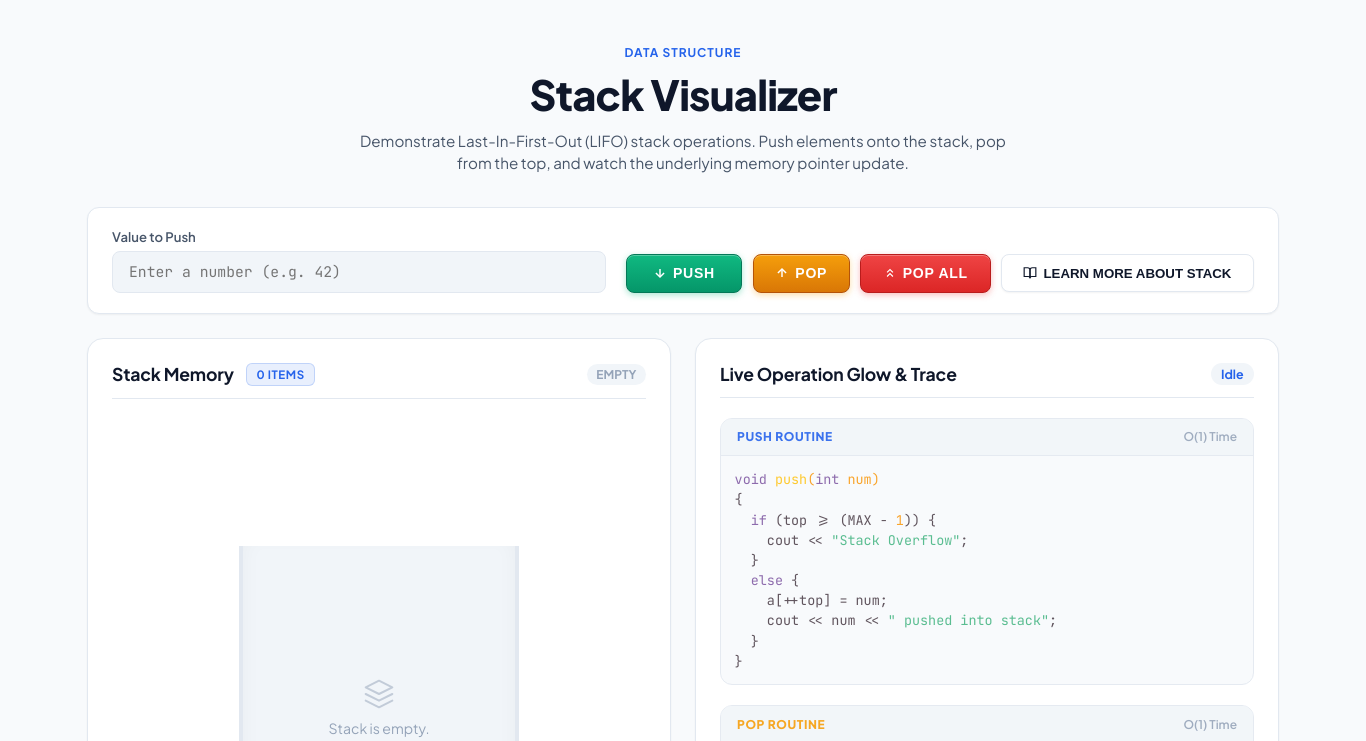
Scenario: should run stack component with box
The image size is (1366, 741).
Type "7" into the field with test id "stackInput" at (359, 272), box x1=112 y1=251 x2=606 y2=293
Click the button "PUSH" at (684, 273), box x1=626 y1=254 x2=742 y2=293
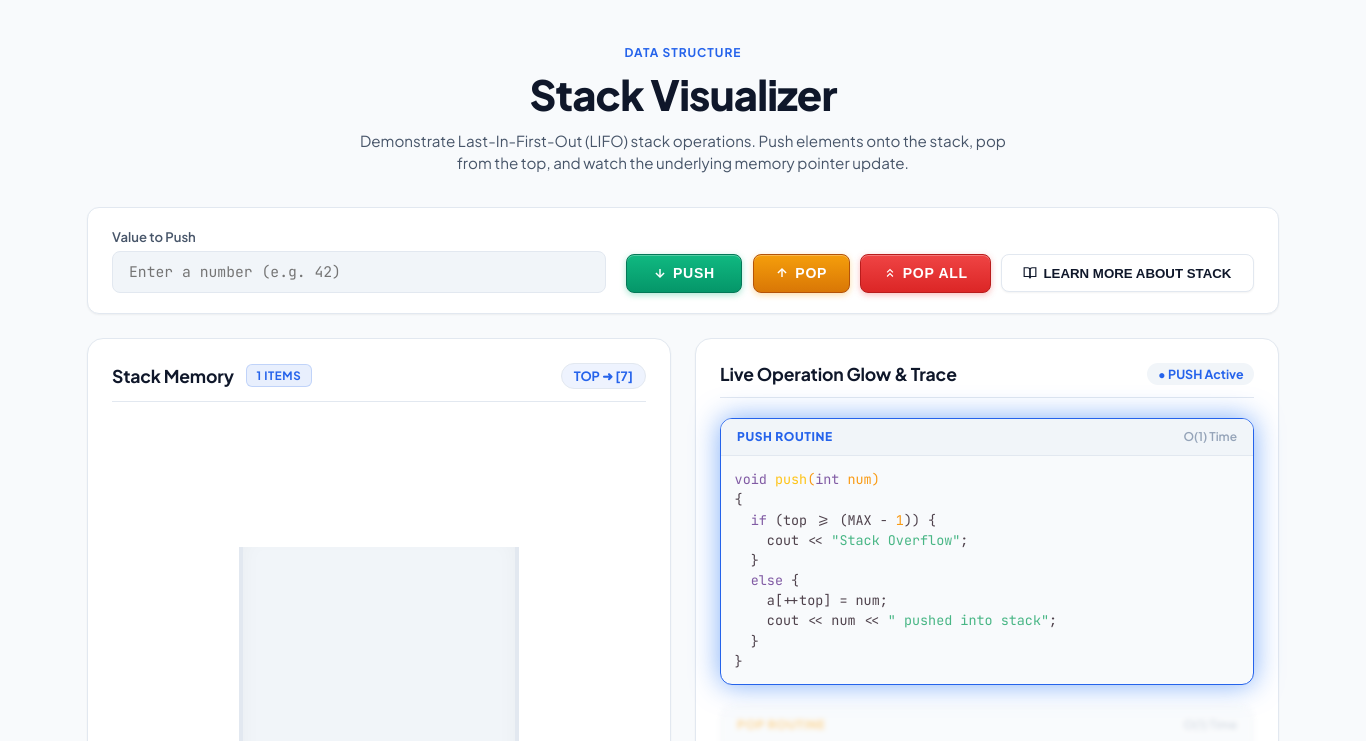
Type "10" into the field with test id "stackInput" at (359, 272), box x1=112 y1=251 x2=606 y2=293
Click the button "PUSH" at (684, 273), box x1=626 y1=254 x2=742 y2=293
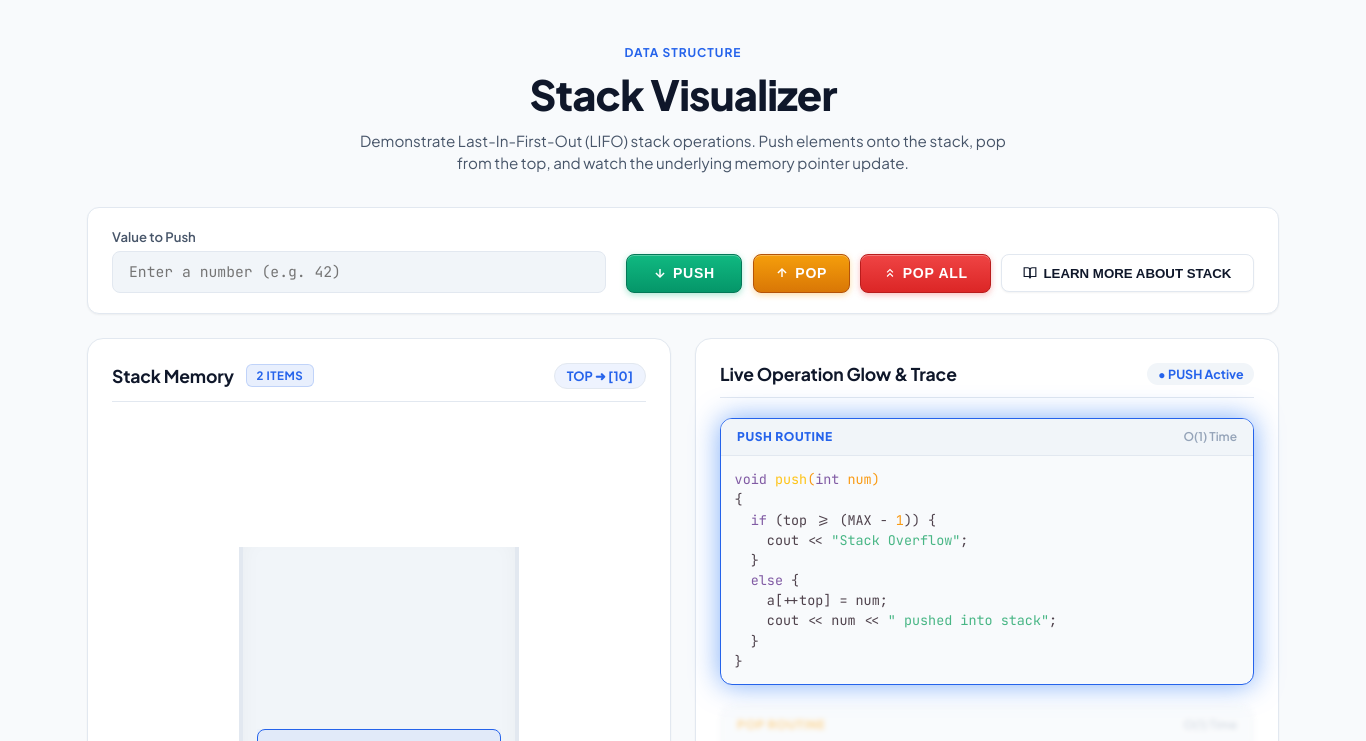
Type "18" into the field with test id "stackInput" at (359, 272), box x1=112 y1=251 x2=606 y2=293
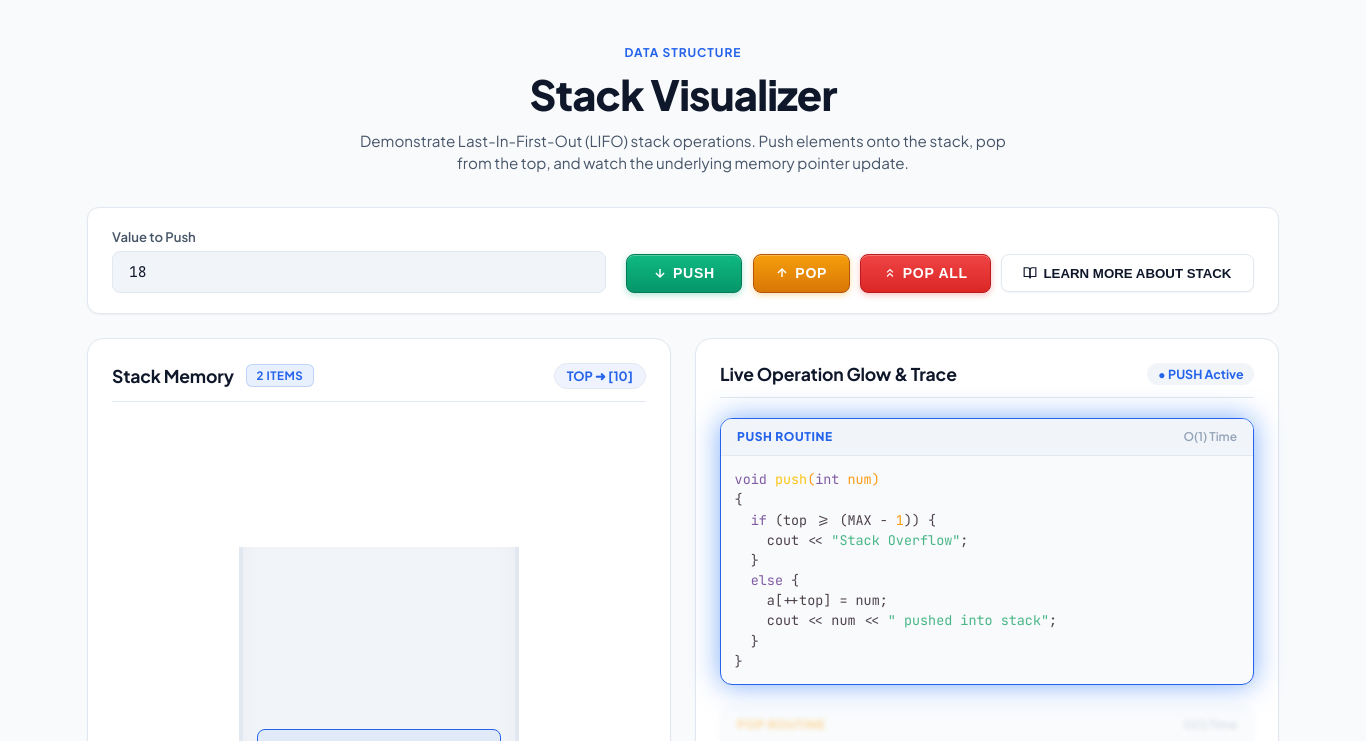
Click the button "PUSH" at (684, 273), box x1=626 y1=254 x2=742 y2=293
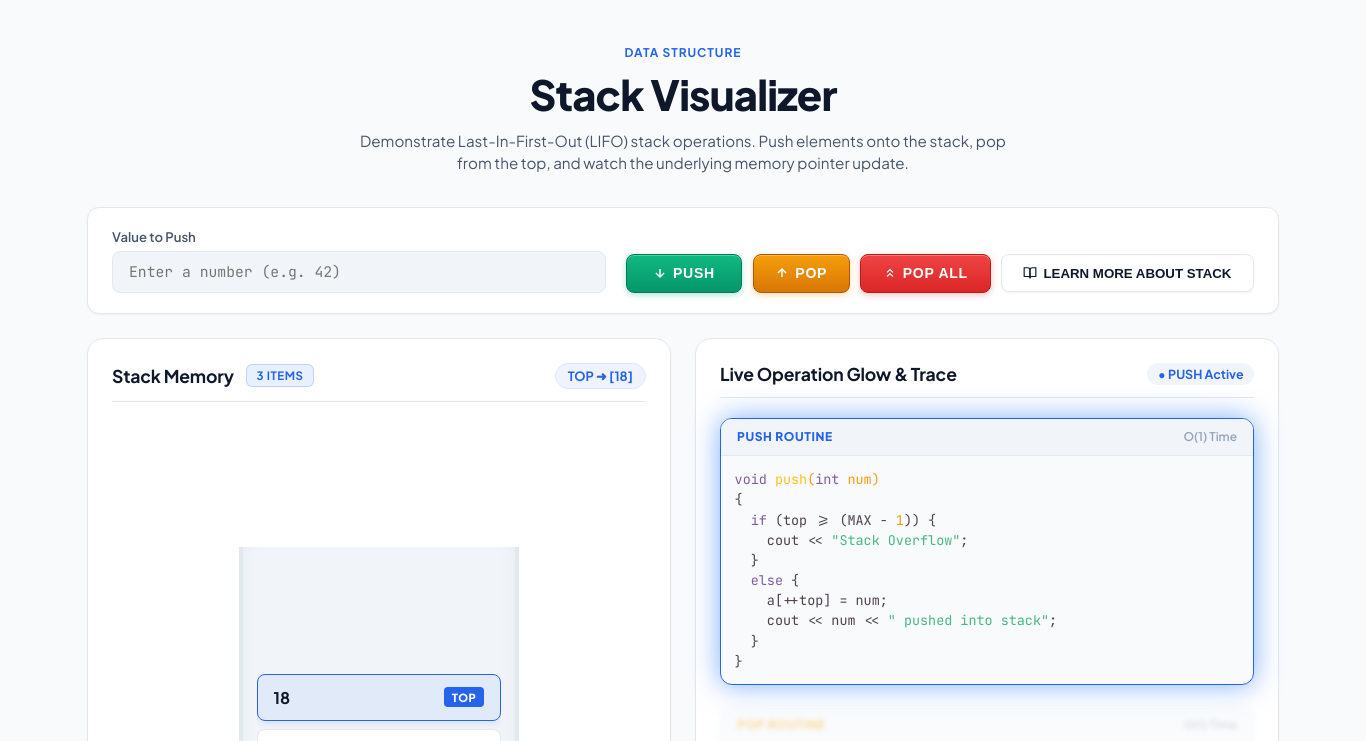
Check: the number of elements with test id "stackBox" is 3
Click the button "POP" at (801, 273), box x1=753 y1=254 x2=850 y2=293
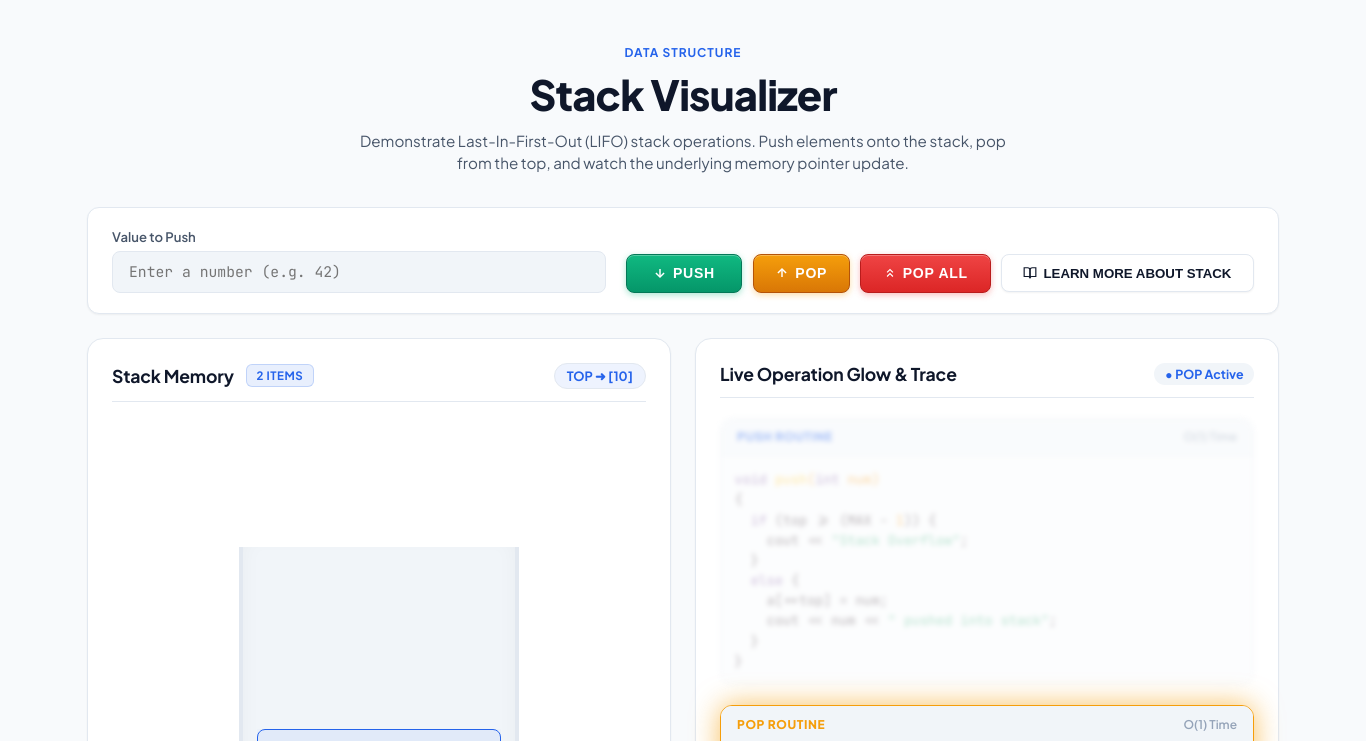
Check: the number of elements with test id "stackBox" is 2
Click the button "POP ALL" at (925, 273), box x1=860 y1=254 x2=990 y2=293
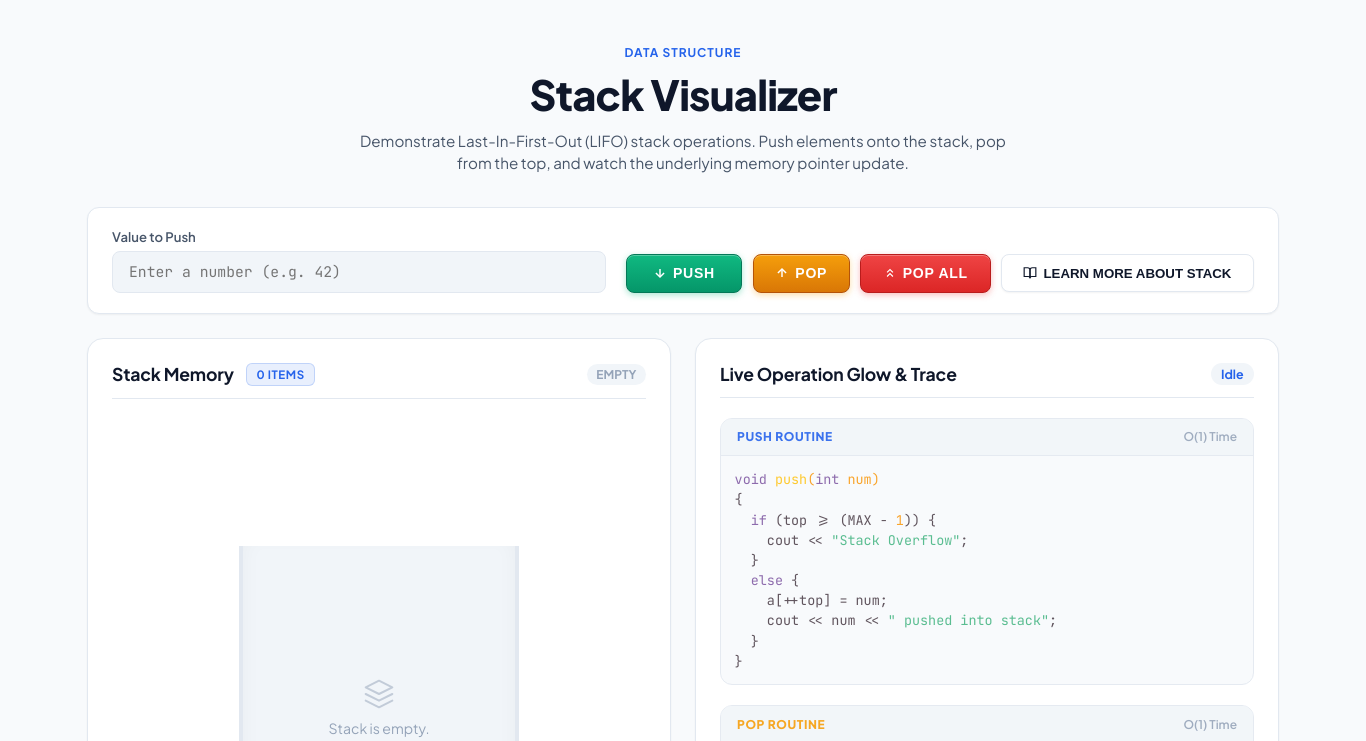
Check: no elements with test id "stackBox" are shown
